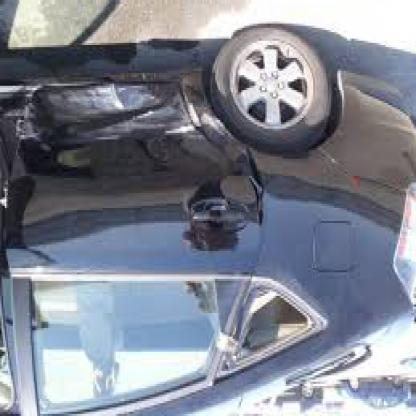dent: (28, 75, 195, 187), (224, 156, 272, 232)
